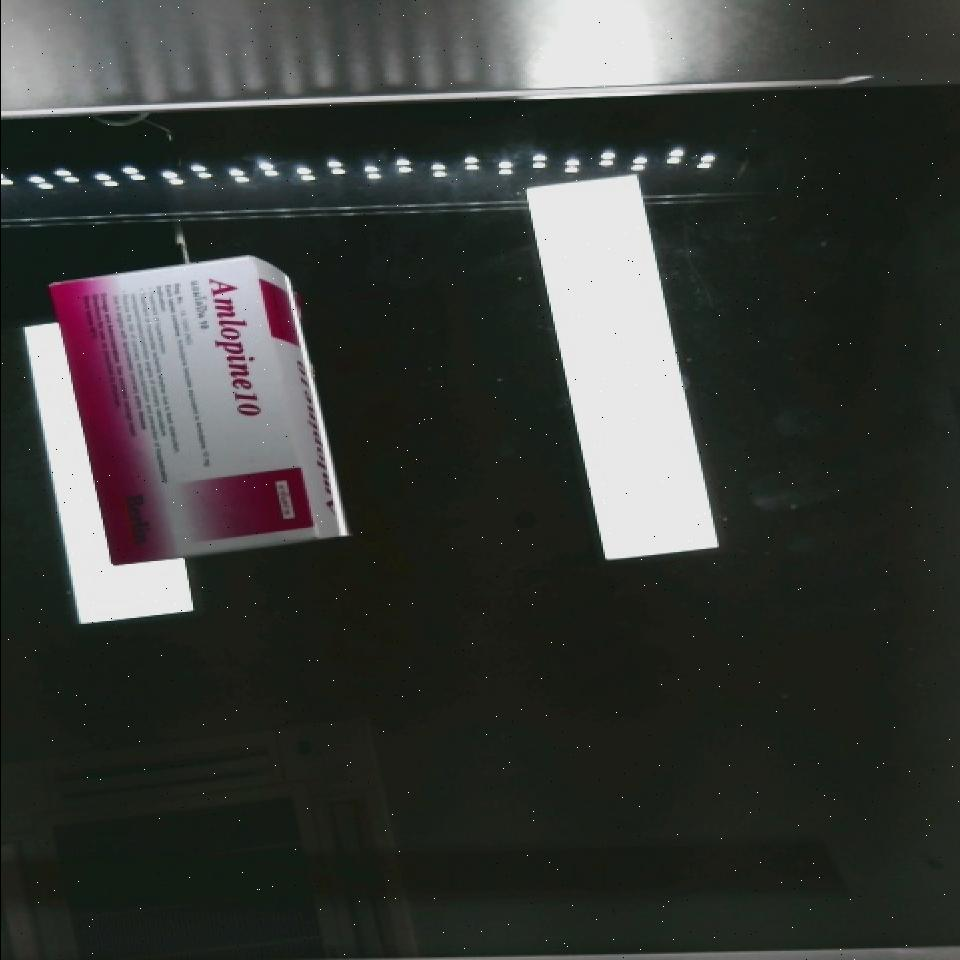medicine_box: (46, 238, 320, 586)
medicine_label_obb: (184, 255, 288, 443)
